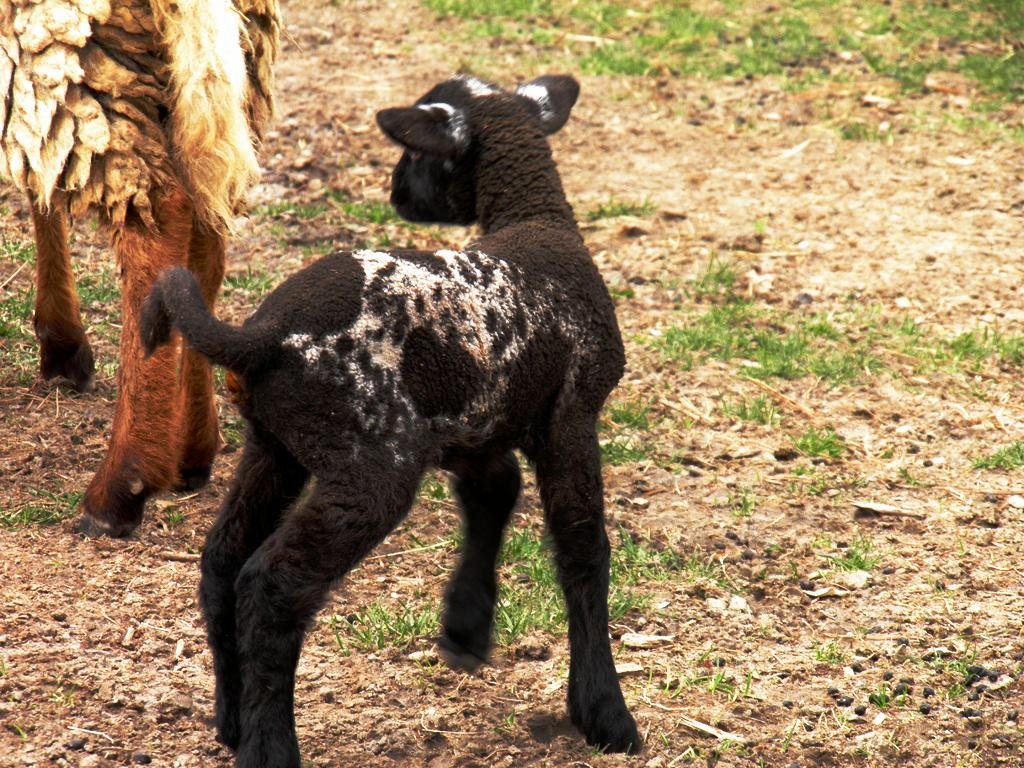Sheep: (108, 79, 633, 756), (0, 0, 303, 534)
